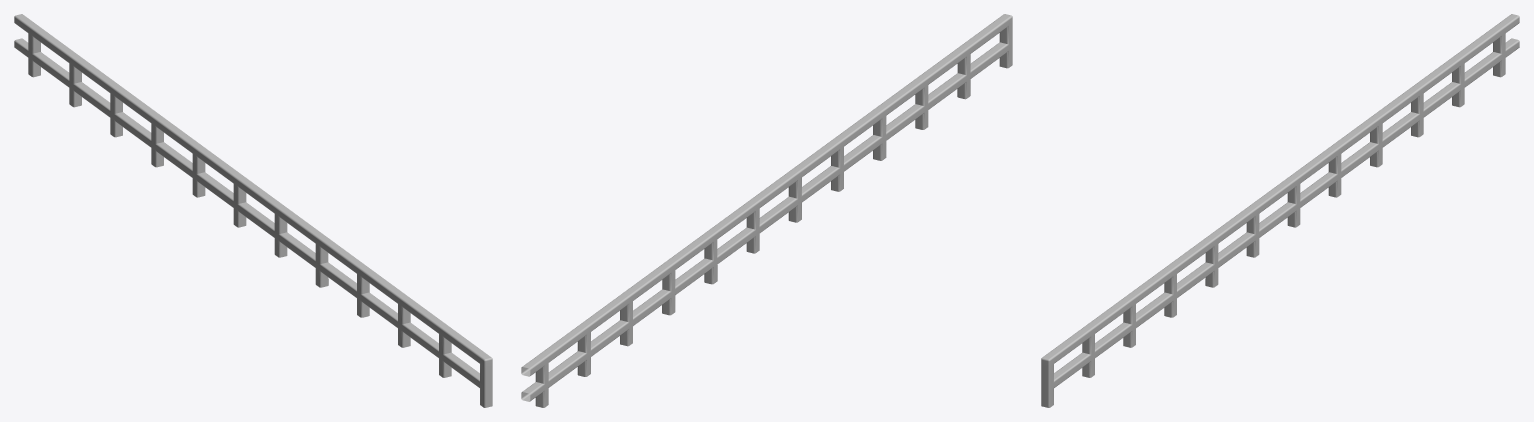
The model's file is Straight_Rail.fbx.
3 views of the same model, side by side, from view 1: azimuth 30°, elevation 25°; view 2: azimuth 150°, elevation 25°; view 3: azimuth 330°, elevation 25° (orthographic). The views are drawn at different scales.
Parts seen in each view (by area): view 1: Straight_Rail; view 2: Straight_Rail; view 3: Straight_Rail.
Part boxes in pixels (x1,y1,x2,y2): Straight_Rail: (14, 14, 492, 407); Straight_Rail: (521, 14, 1012, 407); Straight_Rail: (1041, 14, 1519, 407).
Bounding box in the file's own units: 0.0715 × 0.3684 × 6.52.
1 material, 1 textured.
